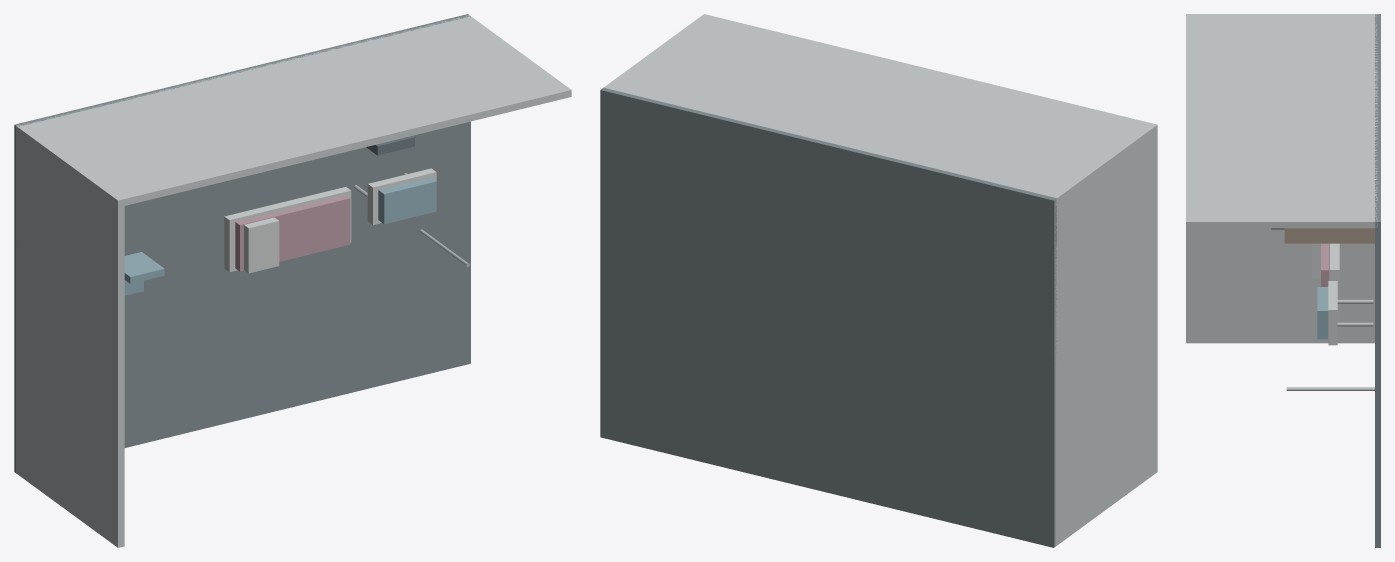
Rendered from maternity-room-medium.glb.
3 views of the same model, side by side, from view 1: azimuth 30°, elevation 25°; view 2: azimuth 150°, elevation 25°; view 3: azimuth 270°, elevation 25° (orthographic). The views are drawn at different scales.
Parts seen in each view (by area): view 1: floor, wall_back, wall_left, maternity_mattress, bassinet_pad, maternity_bed, pillow, newborn_bassinet, chair_back; view 2: floor, wall_back, wall_left; view 3: wall_back, wall_left, floor, maternity_cabinet, newborn_bassinet, bassinet_pad, maternity_bed, maternity_mattress, iv_stand, pillow.
Boxes of the visible parts, x1,y1,x2,y2 form: floor: [14, 14, 470, 472]; wall_back: [19, 15, 571, 207]; wall_left: [16, 125, 124, 547]; maternity_mattress: [235, 195, 350, 271]; bassinet_pad: [378, 177, 436, 224]; maternity_bed: [224, 187, 351, 272]; pillow: [244, 217, 279, 273]; newborn_bassinet: [367, 168, 436, 224]; chair_back: [124, 252, 164, 283]; floor: [600, 87, 1056, 547]; wall_back: [604, 14, 1157, 206]; wall_left: [1051, 123, 1157, 546]; wall_back: [1186, 14, 1377, 228]; wall_left: [1186, 14, 1377, 343]; floor: [1375, 14, 1380, 547]; maternity_cabinet: [1284, 228, 1374, 243]; newborn_bassinet: [1328, 281, 1337, 345]; bassinet_pad: [1317, 287, 1328, 339]; maternity_bed: [1330, 243, 1339, 318]; maternity_mattress: [1321, 243, 1329, 286]; iv_stand: [1286, 387, 1374, 390]; pillow: [1312, 243, 1320, 278].
Bounding box in the file's own units: 8.2 × 6 × 3.25.
